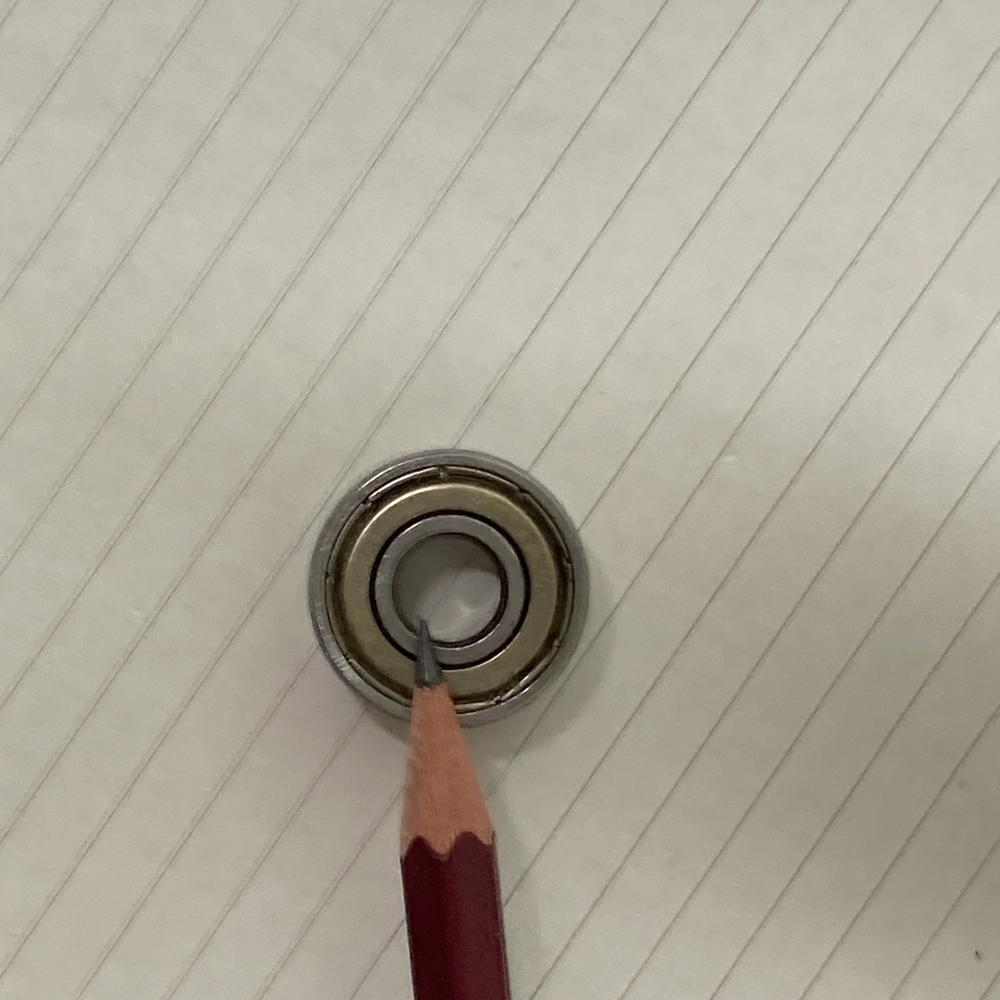ball_bearing: (305, 445, 597, 738)
